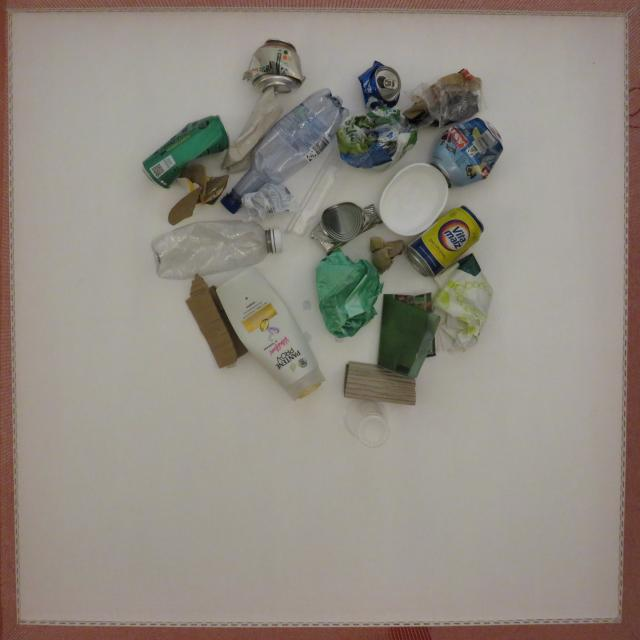cardboard: (186, 274, 247, 368), (221, 87, 283, 173), (168, 164, 229, 225), (344, 361, 415, 405), (370, 236, 404, 274)
hard_plastic: (221, 89, 349, 213), (217, 267, 325, 400), (151, 221, 282, 279), (285, 142, 342, 236), (379, 163, 448, 236), (344, 400, 389, 447)
metal: (142, 115, 230, 188), (407, 206, 484, 277), (430, 118, 503, 187), (311, 202, 382, 255), (243, 39, 305, 93), (358, 61, 400, 109)
soft_plastic: (316, 249, 384, 338), (433, 254, 493, 352), (378, 293, 440, 378), (337, 108, 417, 171), (403, 69, 482, 131), (242, 183, 299, 221)
